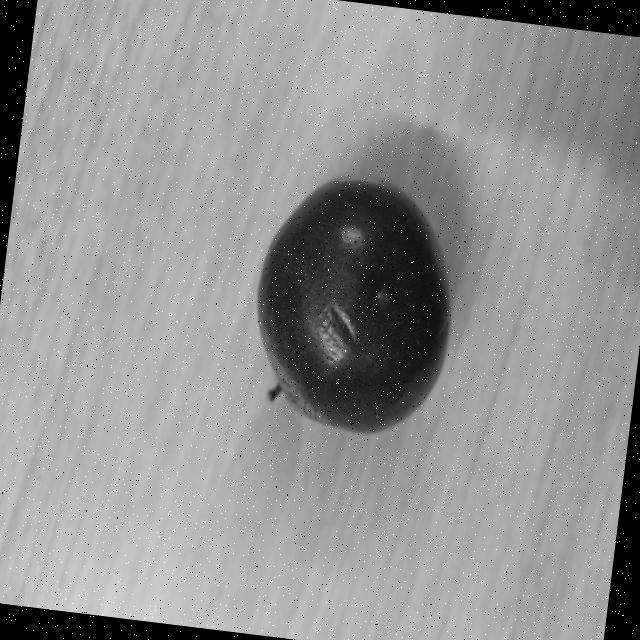Ripe: (239, 160, 470, 445)
